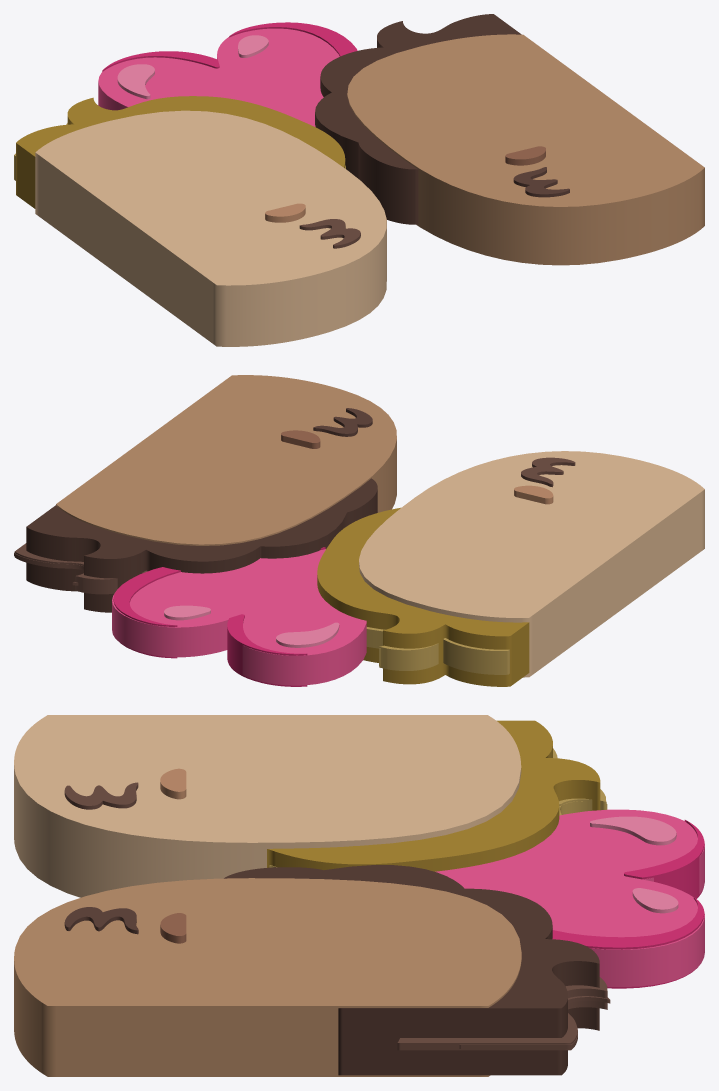
Rendered from emoji_u1f9d1_1f3fc_200d_2764_200d_1f48b_200d_1f9d1_1f3fd.glb.
3 views of the same model, one above another, from view 1: azimuth 30°, elevation 25°; view 2: azimuth 150°, elevation 25°; view 3: azimuth 270°, elevation 25° (orthographic). The views are drawn at different scales.
Visible parts, largest first — view 1: emoji_u1f9d1_1f3fc_200d_2764_200d_1f48b_200d_1f9d1_1f3fd; view 2: emoji_u1f9d1_1f3fc_200d_2764_200d_1f48b_200d_1f9d1_1f3fd; view 3: emoji_u1f9d1_1f3fc_200d_2764_200d_1f48b_200d_1f9d1_1f3fd.
Part boxes in pixels (x1=…): emoji_u1f9d1_1f3fc_200d_2764_200d_1f48b_200d_1f9d1_1f3fd: x1=14, y1=14, x2=704, y2=346; emoji_u1f9d1_1f3fc_200d_2764_200d_1f48b_200d_1f9d1_1f3fd: x1=14, y1=375, x2=704, y2=686; emoji_u1f9d1_1f3fc_200d_2764_200d_1f48b_200d_1f9d1_1f3fd: x1=14, y1=715, x2=704, y2=1076.
Size of the model in its own units: 0.0339 by 0.0048 by 0.0336.
